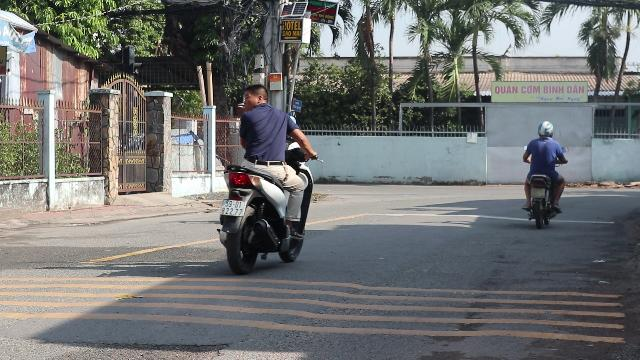helmet: (537, 121, 555, 138)
licenseplate: (220, 200, 248, 216), (532, 188, 544, 197)
motorcyclist: (213, 80, 314, 272), (520, 121, 566, 226)
nohelmet: (242, 82, 270, 112)
